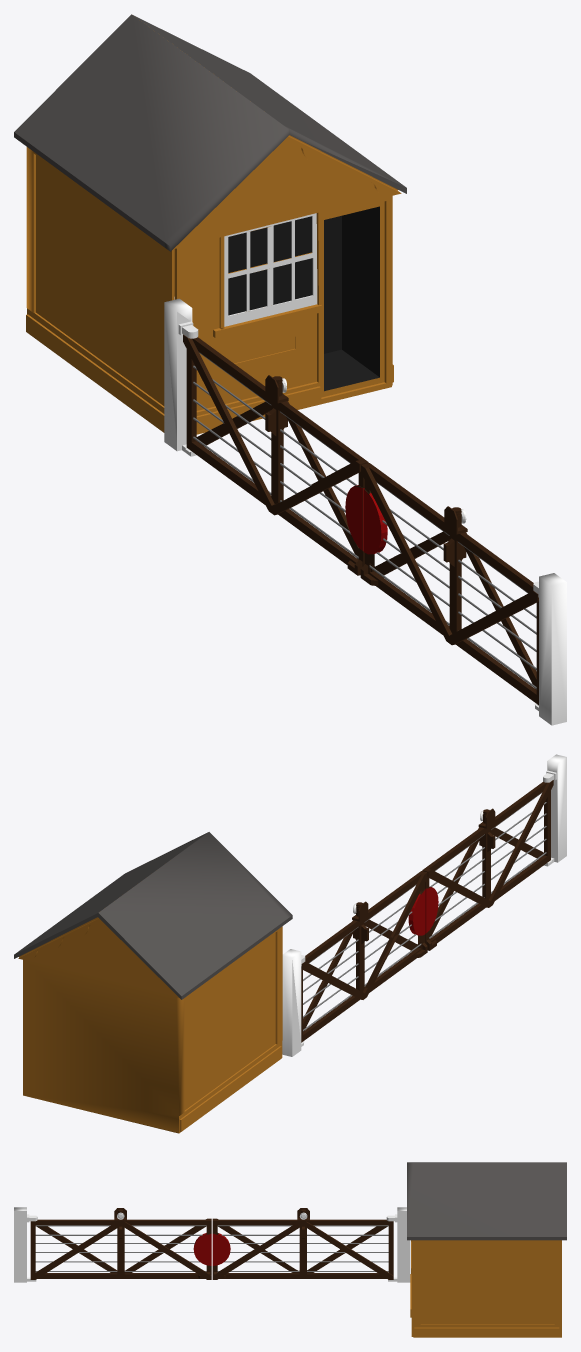
Rendered from Crossing.fbx.
The picture shows the model from 3 angles, top to bottom: view 1: azimuth 30°, elevation 25°; view 2: azimuth 150°, elevation 25°; view 3: azimuth 270°, elevation 25°; orthographic projection. The views are drawn at different scales.
Visible parts, largest first — view 1: Crossing; view 2: Crossing; view 3: Crossing.
Part boxes in pixels (x1=…): Crossing: x1=14, y1=14, x2=566, y2=725; Crossing: x1=14, y1=754, x2=566, y2=1133; Crossing: x1=14, y1=1162, x2=566, y2=1337.
Bounding box in the file's own units: 2193 × 2501 × 8505.
